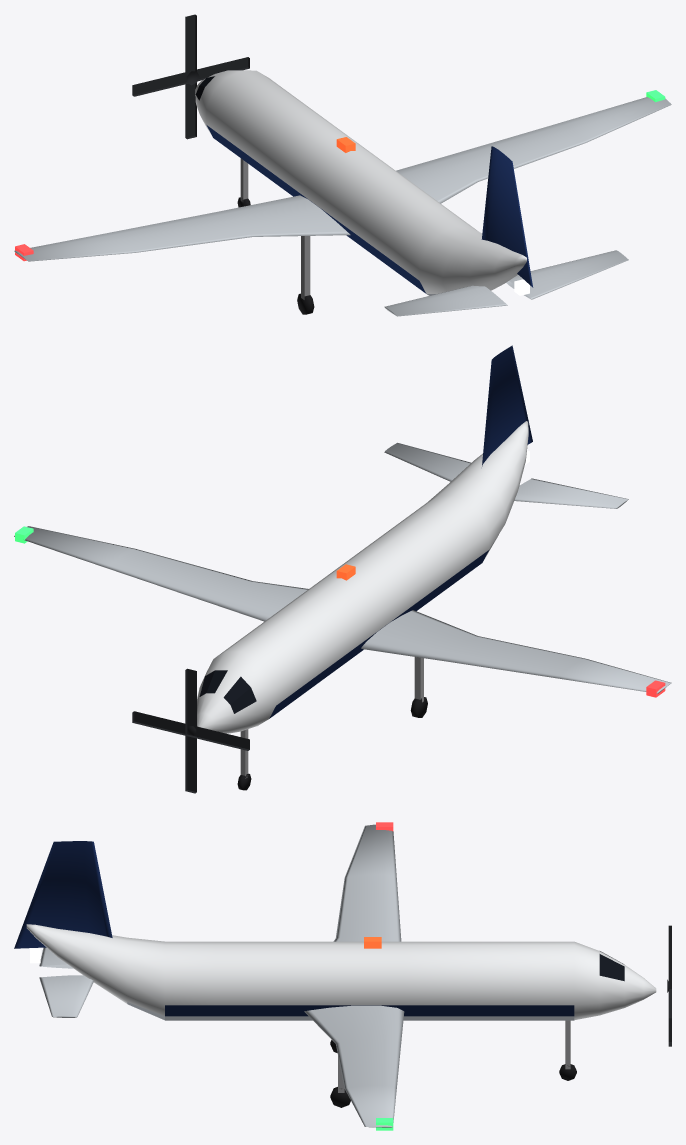
File: fleet_turboprop1_lod1.glb
The picture shows the model from 3 angles, top to bottom: view 1: azimuth 30°, elevation 25°; view 2: azimuth 150°, elevation 25°; view 3: azimuth 270°, elevation 25°; orthographic projection. The views are drawn at different scales.
Parts seen in each view (by area): view 1: fleet_turboprop1_lod1_white, fleet_turboprop1_lod1_wing, fleet_turboprop1_lod1_blue, fleet_turboprop1_lod1_dark, fleet_turboprop1_lod1_metal; view 2: fleet_turboprop1_lod1_white, fleet_turboprop1_lod1_wing, fleet_turboprop1_lod1_blue, fleet_turboprop1_lod1_dark, fleet_turboprop1_lod1_glass, fleet_turboprop1_lod1_metal; view 3: fleet_turboprop1_lod1_white, fleet_turboprop1_lod1_wing, fleet_turboprop1_lod1_blue, fleet_turboprop1_lod1_belly, fleet_turboprop1_lod1_tyre, fleet_turboprop1_lod1_glass, fleet_turboprop1_lod1_dark.
Boxes of the visible parts, x1,y1,x2,y2 form: fleet_turboprop1_lod1_white: [195, 70, 526, 293]; fleet_turboprop1_lod1_wing: [14, 97, 671, 316]; fleet_turboprop1_lod1_blue: [206, 125, 533, 293]; fleet_turboprop1_lod1_dark: [132, 14, 249, 139]; fleet_turboprop1_lod1_metal: [240, 158, 310, 299]; fleet_turboprop1_lod1_white: [197, 421, 528, 733]; fleet_turboprop1_lod1_wing: [14, 442, 671, 693]; fleet_turboprop1_lod1_blue: [269, 345, 532, 718]; fleet_turboprop1_lod1_dark: [132, 668, 249, 793]; fleet_turboprop1_lod1_glass: [199, 670, 256, 713]; fleet_turboprop1_lod1_metal: [240, 657, 423, 778]; fleet_turboprop1_lod1_white: [26, 924, 656, 1020]; fleet_turboprop1_lod1_wing: [39, 824, 404, 1127]; fleet_turboprop1_lod1_blue: [14, 841, 574, 1016]; fleet_turboprop1_lod1_belly: [127, 1002, 574, 1020]; fleet_turboprop1_lod1_tyre: [330, 1040, 576, 1107]; fleet_turboprop1_lod1_glass: [599, 951, 624, 981]; fleet_turboprop1_lod1_dark: [667, 925, 671, 1046].
Bounding box in the file's own units: 16.3 × 6.01 × 15.05.
